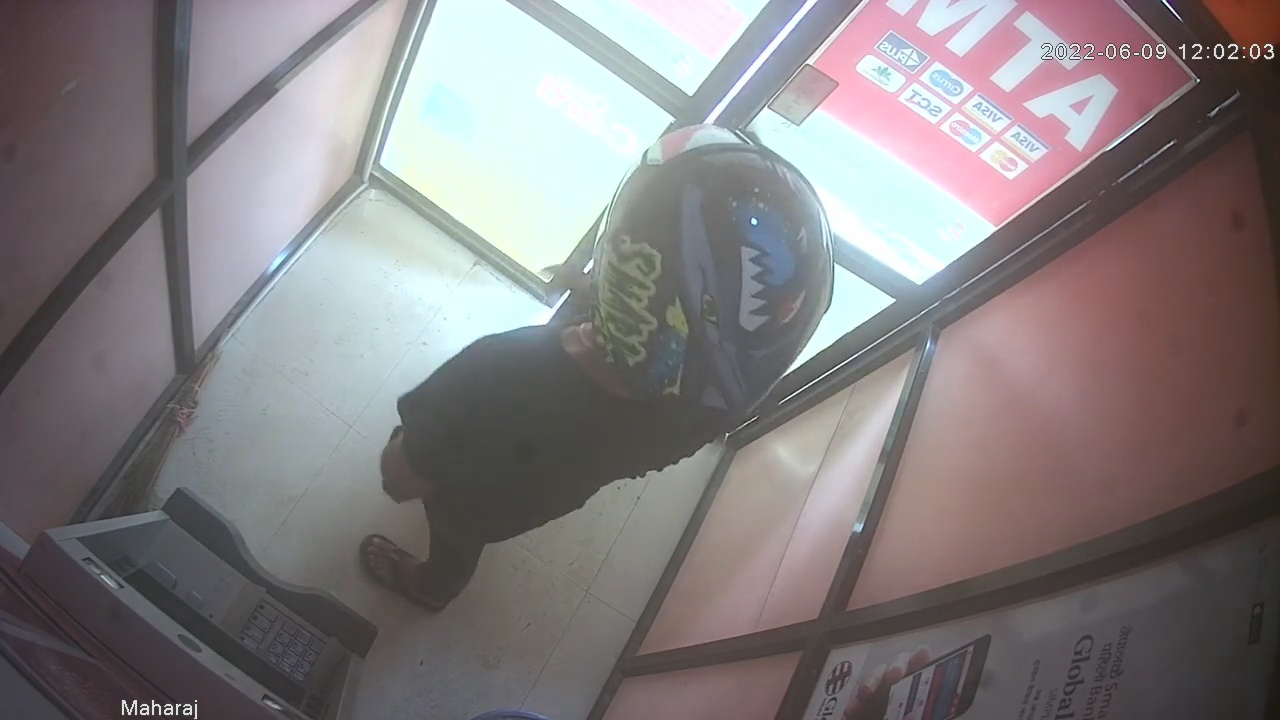helmet: (592, 125, 836, 428)
person: (360, 124, 835, 624)
